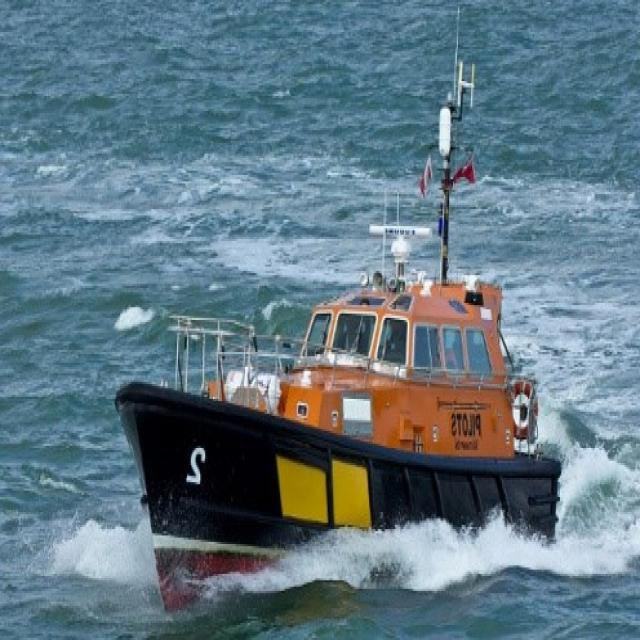houseboat: (120, 54, 576, 607)
